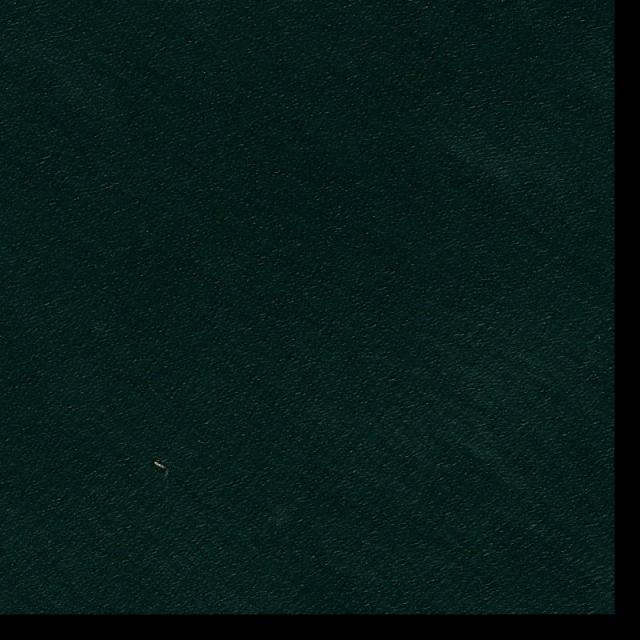ship: (154, 461, 165, 469)
